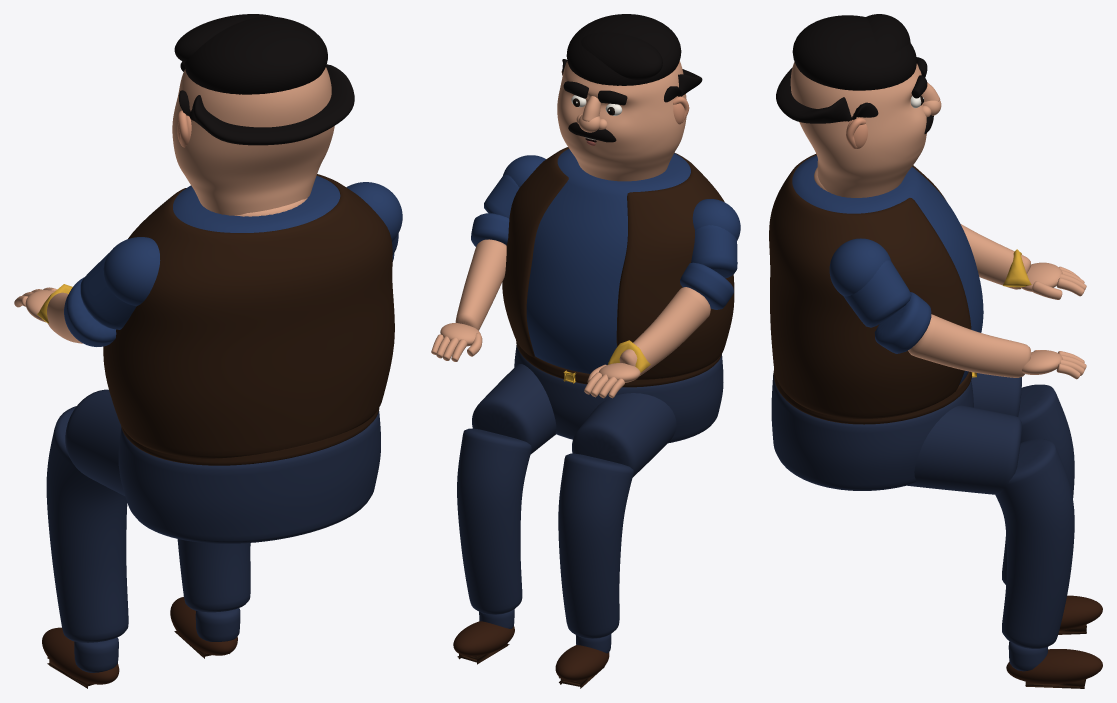
File: davut.glb
3 renders of one model, left to right at view 1: azimuth 30°, elevation 25°; view 2: azimuth 150°, elevation 25°; view 3: azimuth 270°, elevation 25°, orthographic. The views are drawn at different scales.
Visible parts, largest first — view 1: ApronVest, PelvisPants.003, FaceSkull.003, CalfL.003, HairTopCap.001, CalfR.003, HairHorseshoe.002, ThighL.003, NavyShirt, ShoulderCapL.003, LeatherBelt.002, RolledSleeveL.002 (+8 smaller); view 2: ApronVest, NavyShirt, CalfR.003, CalfL.003, FaceSkull.003, PelvisPants.003, ThighL.003, ThighR.003, HairTopCap.001, ForearmL.003, ForearmR.003, HairPompadour (+13 smaller); view 3: ApronVest, CalfR.003, PelvisPants.003, FaceSkull.003, ThighR.003, HairTopCap.001, NavyShirt, ForearmR.003, CalfL.003, RolledSleeveR.002, ShoulderCapR.003, ShoeUpperR.002 (+11 smaller).
Part boxes in pixels (<box>): ApronVest: <box>103,174,394,458</box>; PelvisPants.003: <box>118,411,380,543</box>; FaceSkull.003: <box>172,67,334,215</box>; CalfL.003: <box>46,406,128,642</box>; HairTopCap.001: <box>184,16,327,94</box>; CalfR.003: <box>177,539,250,612</box>; HairHorseshoe.002: <box>179,64,354,145</box>; ThighL.003: <box>65,389,124,495</box>; NavyShirt: <box>173,176,340,232</box>; ShoulderCapL.003: <box>103,237,160,306</box>; LeatherBelt.002: <box>121,408,379,465</box>; RolledSleeveL.002: <box>80,252,136,329</box>; ApronVest: <box>502,147,734,379</box>; NavyShirt: <box>526,149,690,373</box>; CalfR.003: <box>457,428,531,614</box>; CalfL.003: <box>558,453,633,638</box>; FaceSkull.003: <box>557,61,686,181</box>; PelvisPants.003: <box>514,345,723,443</box>; ThighL.003: <box>572,393,676,477</box>; ThighR.003: <box>472,364,556,454</box>; HairTopCap.001: <box>566,14,681,85</box>; ForearmL.003: <box>619,287,710,376</box>; ForearmR.003: <box>455,239,506,330</box>; HairPompadour: <box>581,32,662,79</box>; ApronVest: <box>769,154,971,418</box>; CalfR.003: <box>995,439,1074,648</box>; PelvisPants.003: <box>771,373,973,490</box>; FaceSkull.003: <box>790,62,926,197</box>; ThighR.003: <box>907,405,1021,494</box>; HairTopCap.001: <box>792,15,916,90</box>; NavyShirt: <box>792,155,983,384</box>; ForearmR.003: <box>908,314,1030,377</box>; CalfL.003: <box>1002,384,1074,585</box>; RolledSleeveR.002: <box>843,260,911,327</box>; ShoulderCapR.003: <box>829,238,890,296</box>; ShoeUpperR.002: <box>1006,649,1102,684</box>.
Size of the model in its own units: 0.6464 by 1.38 by 0.6617.
